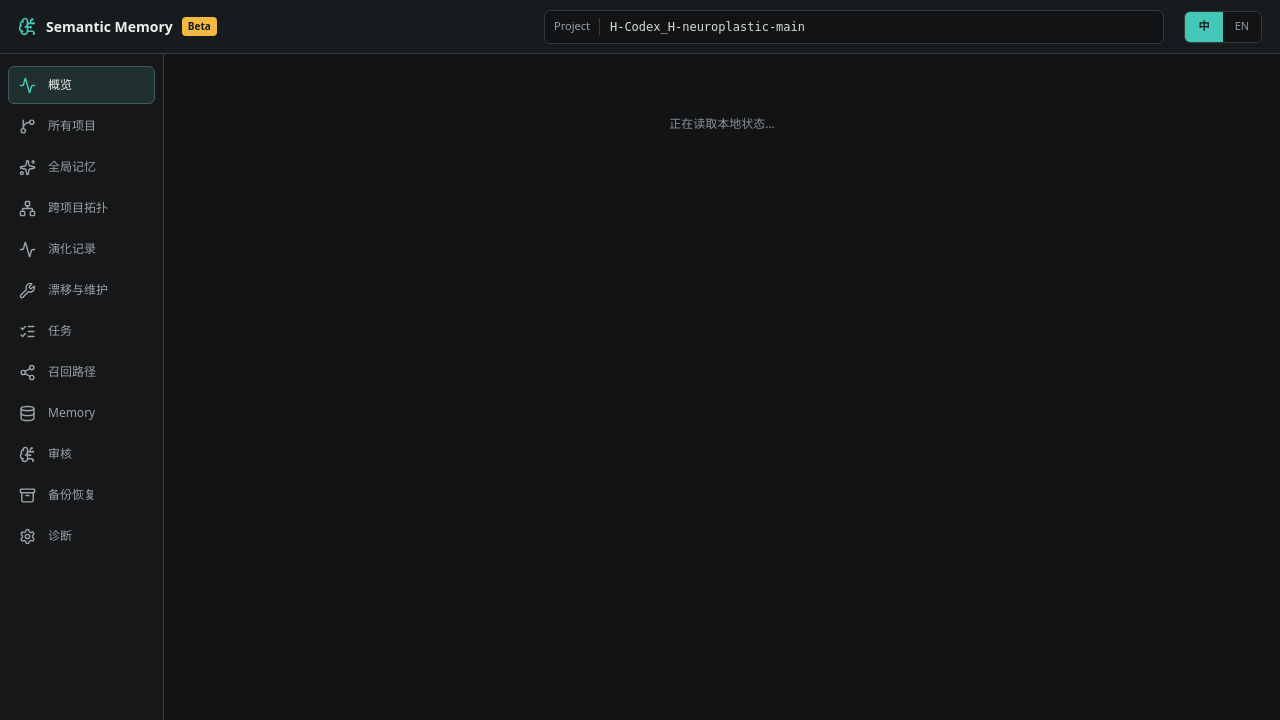
Test: Stage14 global Manager views › shows the causal task chain and evidence grade without a write action
Click the button "演化记录". click: (82, 249)
box: [8,230,155,268]
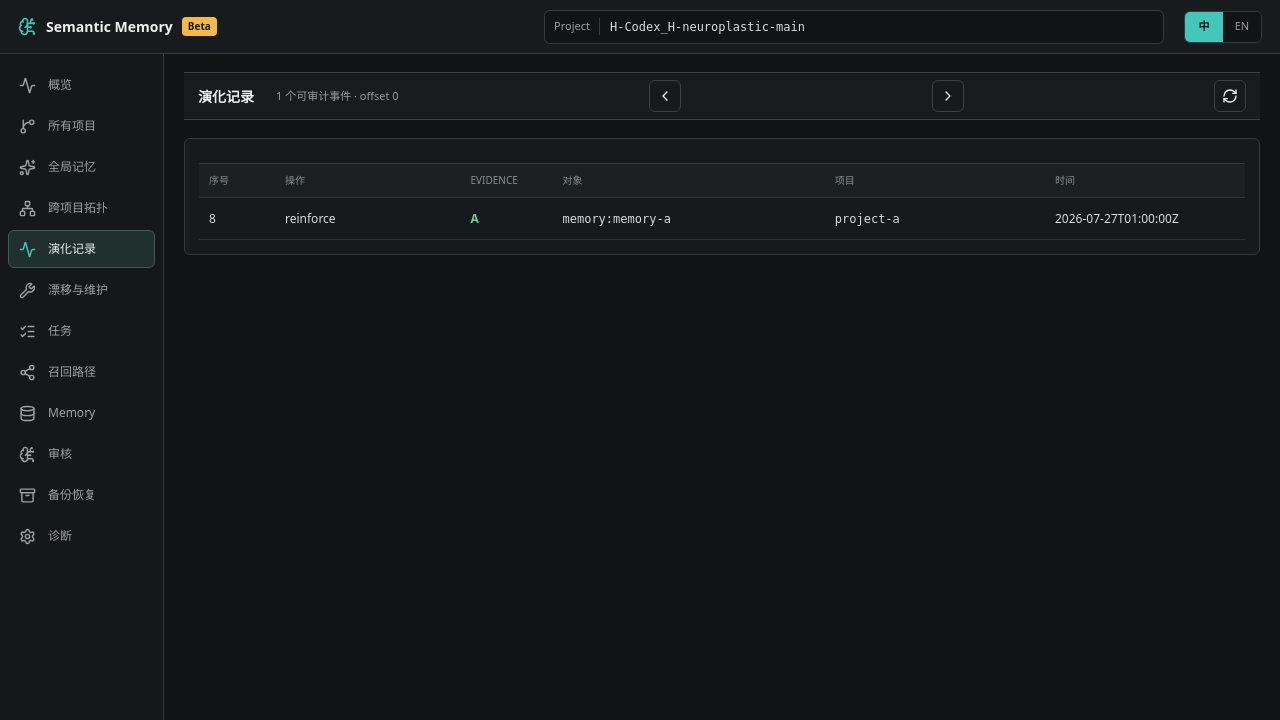
Check: the text "reinforce" is shown, box [285,210,336,226]
Click the button "reinforce". click: (310, 218)
box: [199,198,1245,240]
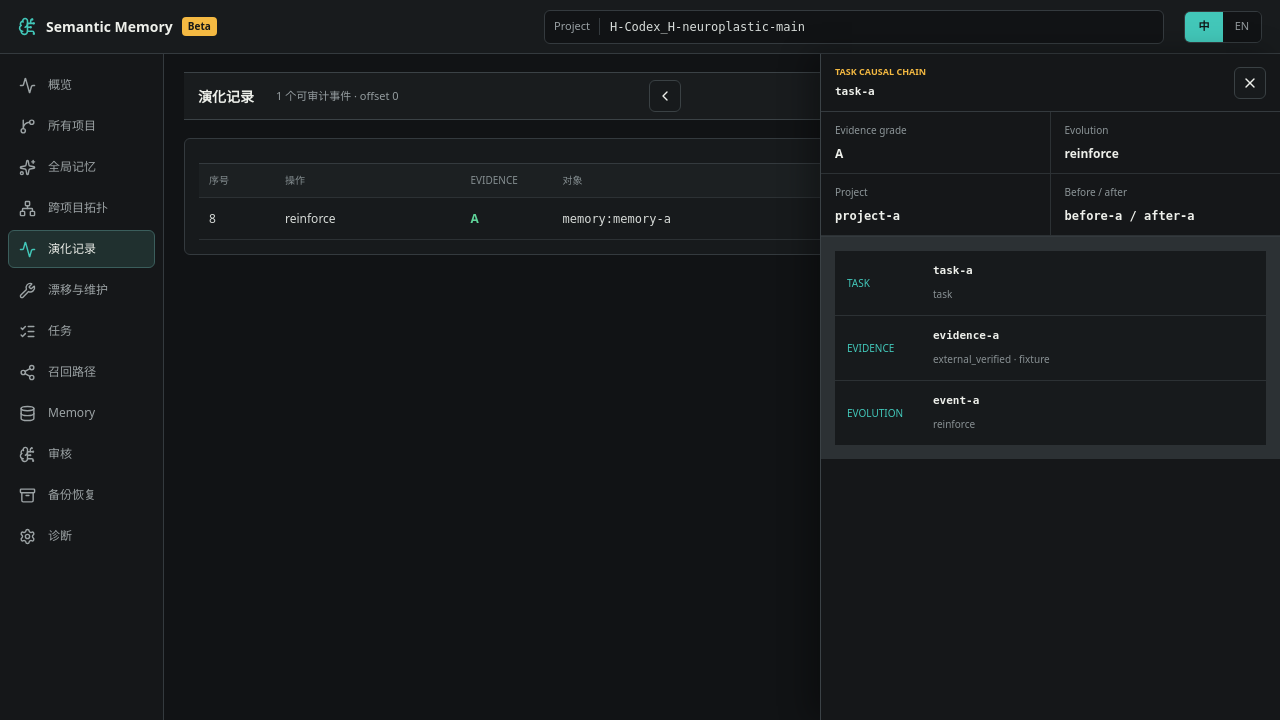
Check: the element named "任务因果链" shows "evidence-a", box [933,329,999,342]
Check: the element named "任务因果链" shows "A", box [835,144,843,162]
